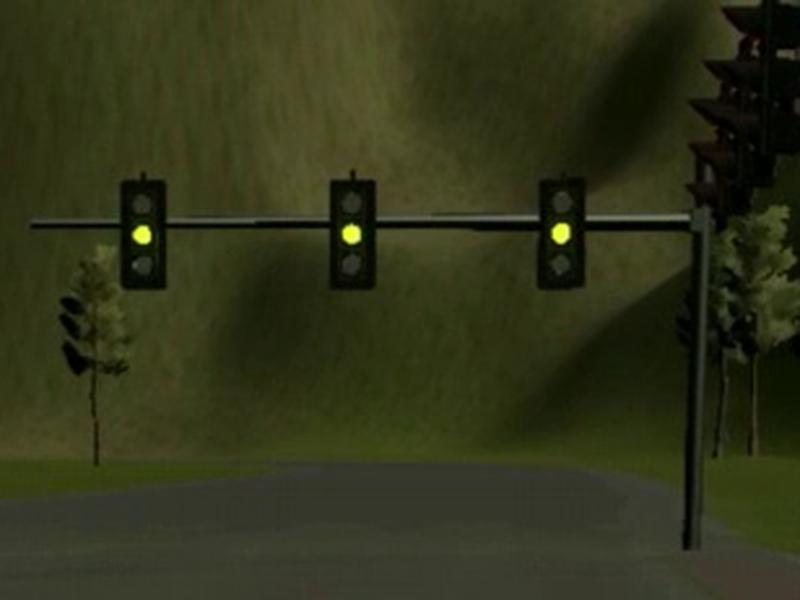Yellow: (537, 177, 586, 289), (118, 179, 166, 290), (328, 179, 376, 289)
